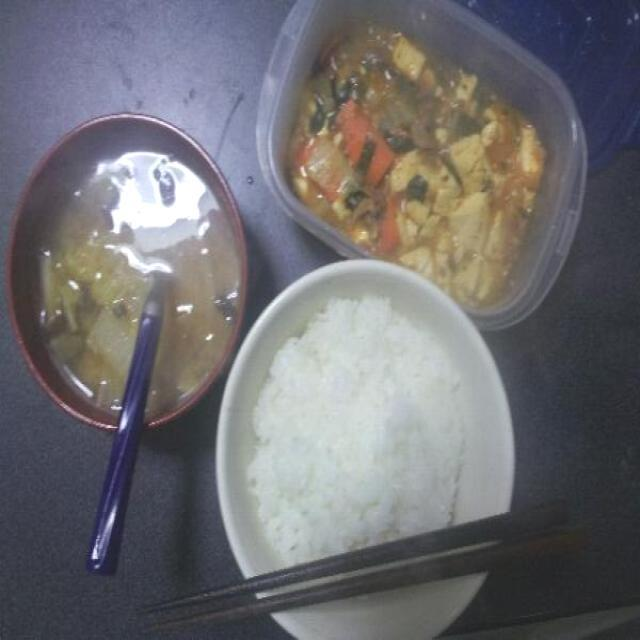Rice: (205, 250, 530, 637)
